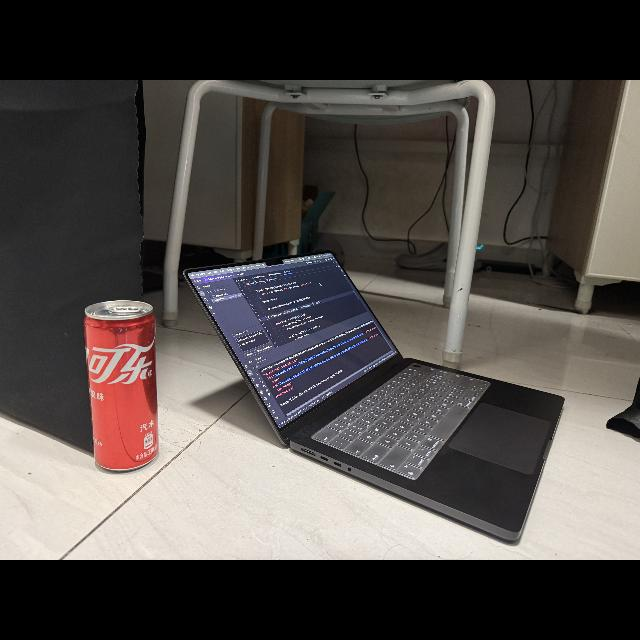Cola: (78, 294, 165, 474)
